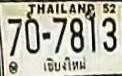0: (24, 17, 40, 53)
1: (91, 19, 96, 52)
3: (101, 16, 116, 51)
7: (7, 18, 21, 55), (52, 17, 66, 52)
8: (70, 17, 83, 52)
CMI: (40, 55, 89, 73)
